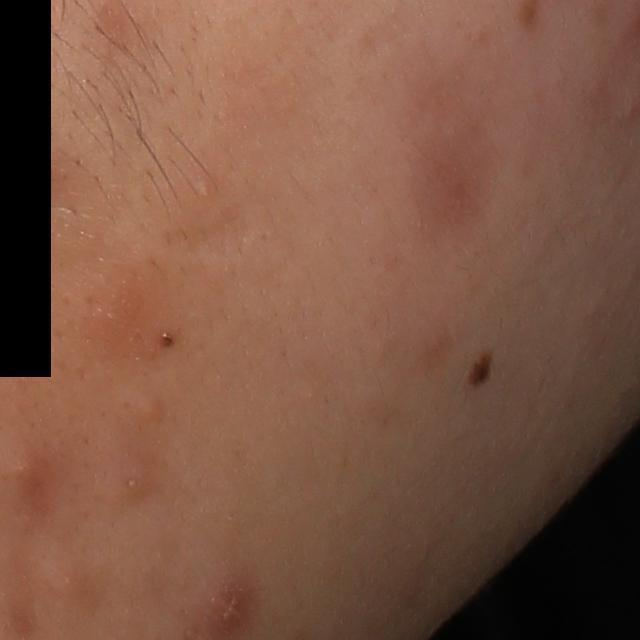comedo: (135, 392, 167, 425)
nevus: (469, 352, 494, 383), (161, 332, 175, 352)
papule: (95, 444, 170, 508), (87, 285, 135, 339)
